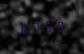five: (42, 19, 53, 33)
nine: (54, 19, 65, 32)
seven: (30, 20, 41, 34)
six: (18, 21, 29, 34)
